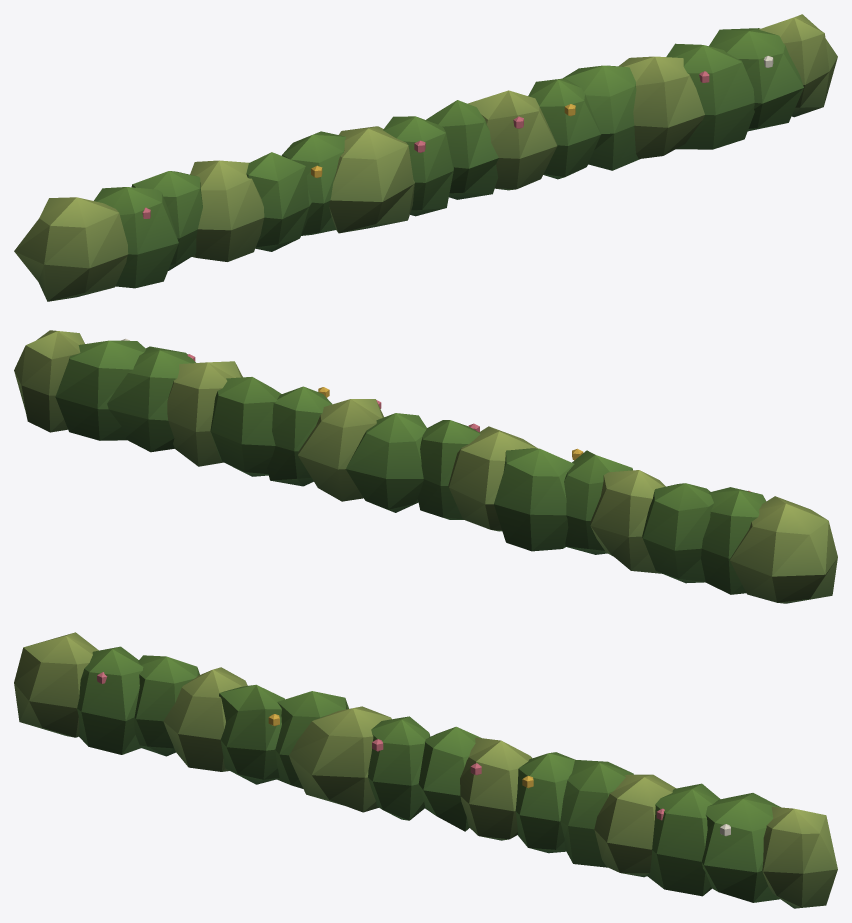
The model's file is scene_hedge_1.glb.
3 views of the same model, one above another, from view 1: azimuth 30°, elevation 25°; view 2: azimuth 150°, elevation 25°; view 3: azimuth 330°, elevation 25° (orthographic).
Parts seen in each view (by area): view 1: scene_hedge_1; view 2: scene_hedge_1; view 3: scene_hedge_1.
Boxes of the visible parts, left/top/right/bottom form: scene_hedge_1: left=14, top=14, right=837, bottom=301; scene_hedge_1: left=14, top=330, right=837, bottom=603; scene_hedge_1: left=14, top=632, right=837, bottom=908.
Size of the model in its own units: 9.55 by 1.12 by 1.16.
